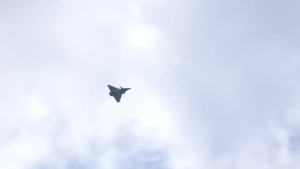flight: (107, 84, 132, 103)
